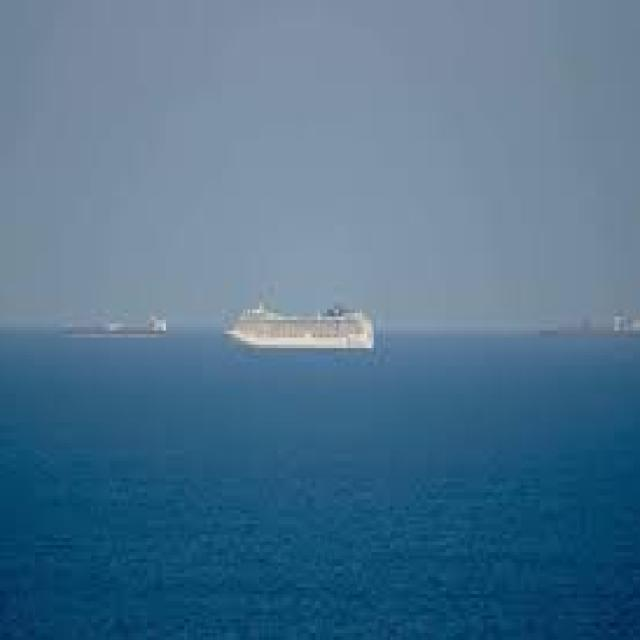passenger ship: (236, 278, 389, 378)
